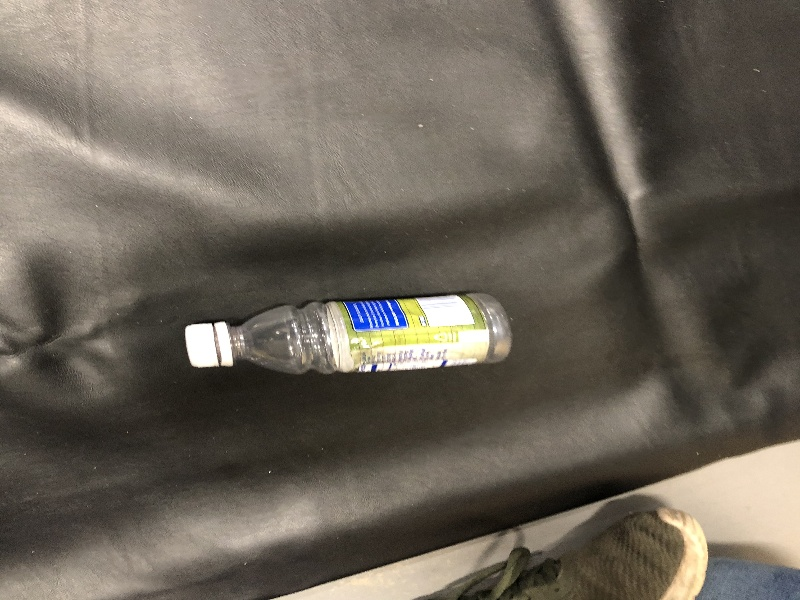plastic: (167, 275, 519, 392)
